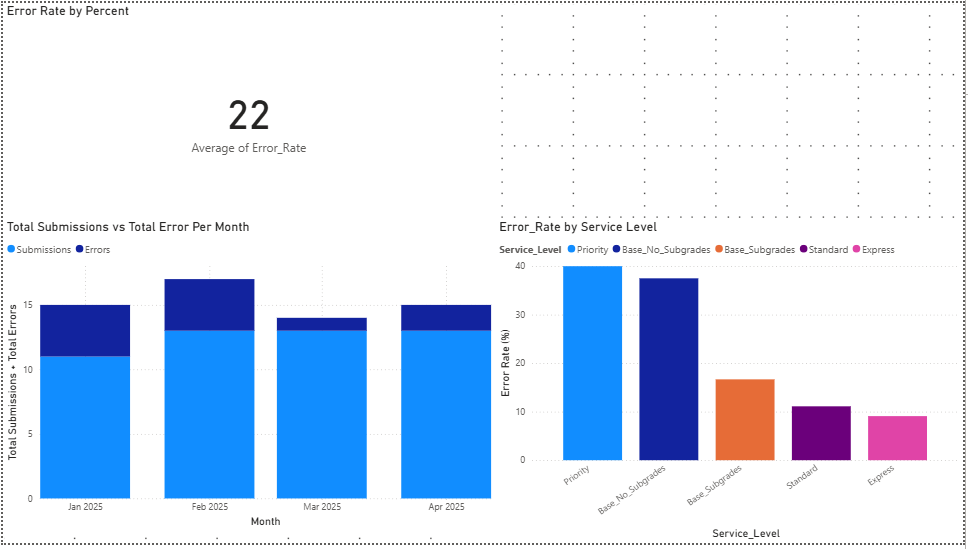

This screenshot's page, from the dashboard's own definition file:
{"tool":"powerbi","page":{"name":"Error Rate","canvas":[1280,720],"ordinal":1},"visuals":[{"type":"card","title":"Error Rate by Percent","fields":{"Values":["Avg(Error Rate.Error_Rate)"]},"box":[0,0,656,288],"z":0},{"type":"columnChart","title":"Error_Rate by Service Level","fields":{"Series":["Error Rate by Service Level.Service_Level"],"Category":["Error Rate by Service Level.Service_Level"],"Y":["Sum(Error Rate by Service Level.Error_Rate)"]},"box":[656,288,624,432],"z":1000},{"type":"columnChart","title":"Total Submissions vs Total Error Per Month","fields":{"Category":["Volume vs Error Rate.Month"],"Y":["Sum(Volume vs Error Rate.Submission_Volume)","Sum(Volume vs Error Rate.Custom)"]},"box":[0,288,656,416],"z":2000}]}

Visuals, with their boxes in screenshot pixels (x1, y1, x2, y2), scaled from the page's 1280x720 canvas onto the 968x549 screenshot:
"Error Rate by Percent" card: <bbox>0, 0, 496, 220</bbox>
"Error_Rate by Service Level" columnChart: <bbox>496, 220, 967, 548</bbox>
"Total Submissions vs Total Error Per Month" columnChart: <bbox>0, 220, 496, 537</bbox>
